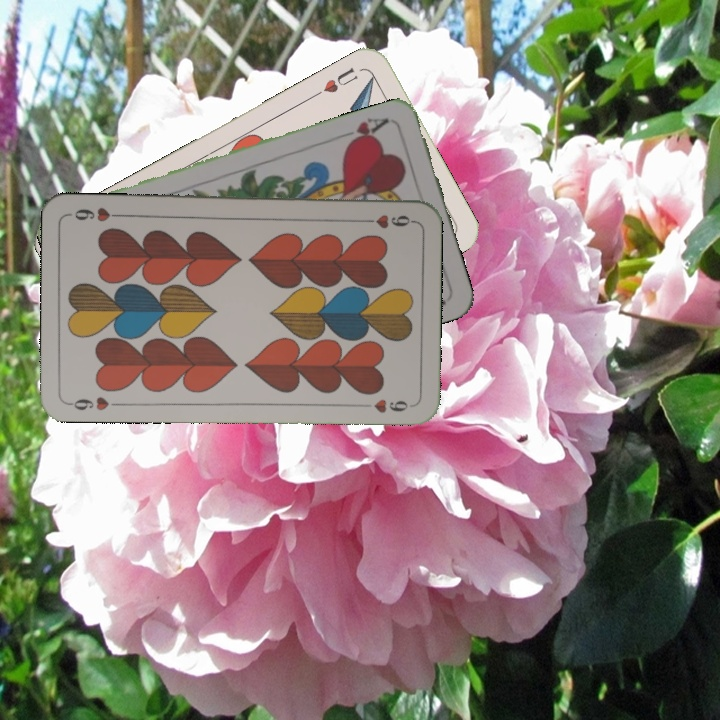H9: (357, 210, 416, 231), (65, 393, 124, 413)
HA: (336, 113, 392, 149)
HU: (310, 63, 361, 100)
